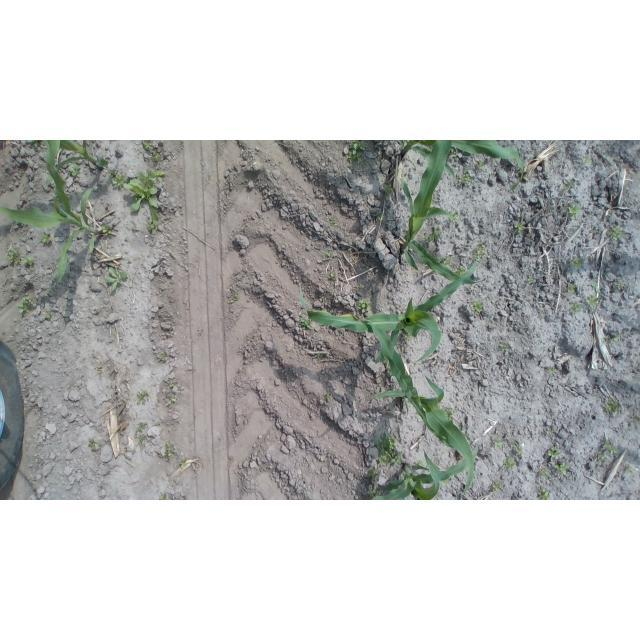Maize: (358, 316, 477, 496), (298, 258, 479, 362), (0, 141, 106, 290), (398, 140, 486, 286), (395, 141, 526, 194), (370, 444, 478, 500), (44, 141, 109, 188)
Weeds: (123, 169, 166, 212), (373, 434, 403, 467), (107, 267, 130, 292), (346, 141, 367, 164), (107, 169, 125, 190), (7, 244, 22, 264), (473, 244, 487, 265), (608, 224, 625, 241), (17, 295, 32, 314), (568, 204, 584, 221), (147, 212, 159, 234), (135, 389, 151, 405), (458, 167, 473, 184), (356, 299, 373, 314), (603, 442, 621, 455), (584, 295, 600, 309), (555, 462, 570, 476), (604, 398, 619, 412), (165, 441, 176, 460), (548, 446, 561, 462), (67, 163, 81, 177), (471, 301, 485, 314), (367, 487, 381, 500), (504, 456, 517, 470), (368, 468, 381, 481), (492, 436, 505, 449), (151, 150, 163, 164), (569, 301, 581, 314), (300, 318, 313, 330), (102, 224, 115, 236), (40, 232, 53, 244), (88, 437, 101, 449), (537, 488, 550, 500), (606, 333, 620, 344), (24, 255, 35, 269), (384, 181, 393, 196), (432, 228, 443, 240), (513, 222, 523, 233), (455, 265, 465, 276), (142, 141, 152, 152), (492, 481, 502, 492), (597, 451, 608, 461), (572, 258, 582, 269), (499, 342, 511, 351), (322, 252, 334, 261), (445, 408, 454, 420), (580, 156, 592, 165), (135, 422, 145, 432), (592, 283, 601, 294), (476, 160, 485, 171), (442, 260, 453, 269), (26, 141, 40, 148), (330, 216, 338, 228), (421, 234, 433, 242), (450, 211, 459, 221), (404, 333, 413, 343), (156, 353, 166, 362), (138, 434, 147, 444), (540, 467, 549, 477), (231, 292, 239, 303), (564, 181, 572, 192), (567, 284, 576, 293), (449, 148, 458, 157), (516, 447, 525, 456), (527, 275, 535, 285), (324, 391, 332, 401), (167, 396, 177, 404), (328, 272, 337, 280), (44, 311, 52, 320), (48, 285, 57, 292), (376, 215, 384, 222), (63, 303, 70, 311), (180, 459, 187, 467), (416, 460, 424, 467), (546, 429, 554, 436), (546, 365, 554, 372), (68, 195, 73, 205), (631, 415, 638, 422), (384, 356, 390, 364), (169, 380, 175, 388), (132, 227, 141, 232), (303, 491, 308, 500), (434, 256, 440, 263), (159, 493, 165, 500), (618, 283, 625, 289), (521, 214, 527, 220), (513, 183, 519, 189), (465, 435, 471, 441), (440, 480, 448, 484), (540, 310, 545, 316), (387, 372, 393, 377), (626, 468, 632, 473), (315, 354, 320, 358), (393, 142, 396, 146)
